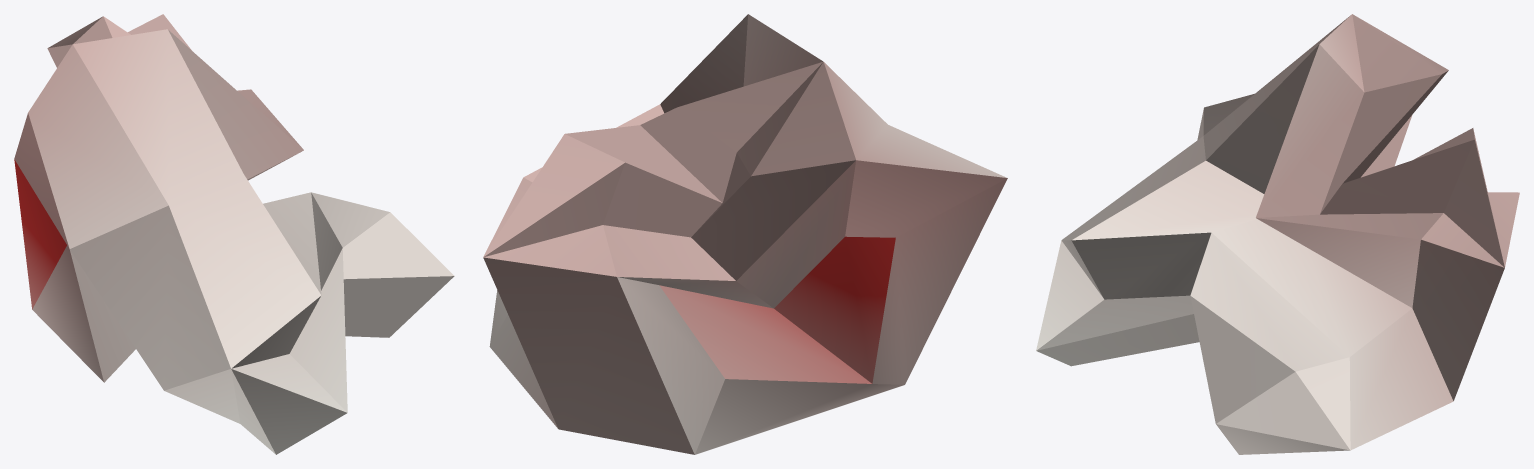
3 views of the same model, side by side, from view 1: azimuth 30°, elevation 25°; view 2: azimuth 150°, elevation 25°; view 3: azimuth 270°, elevation 25° (orthographic). The views are drawn at different scales.
Visible parts, largest first — view 1: SM_Prop_Snack_03_0; view 2: SM_Prop_Snack_03_0; view 3: SM_Prop_Snack_03_0.
Boxes of the visible parts, left/top/right/bottom form: SM_Prop_Snack_03_0: left=14, top=14, right=454, bottom=454; SM_Prop_Snack_03_0: left=483, top=14, right=1007, bottom=454; SM_Prop_Snack_03_0: left=1036, top=14, right=1519, bottom=454.
Bounding box in the file's own units: 0.1638 × 0.1324 × 0.176.
Materials: 1 (1 with a texture image).
